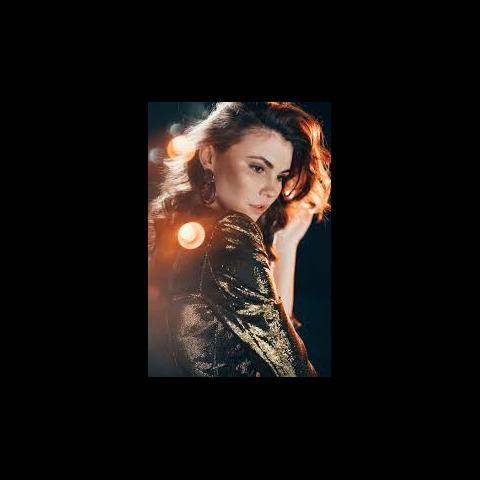opened: (247, 153, 294, 186)
